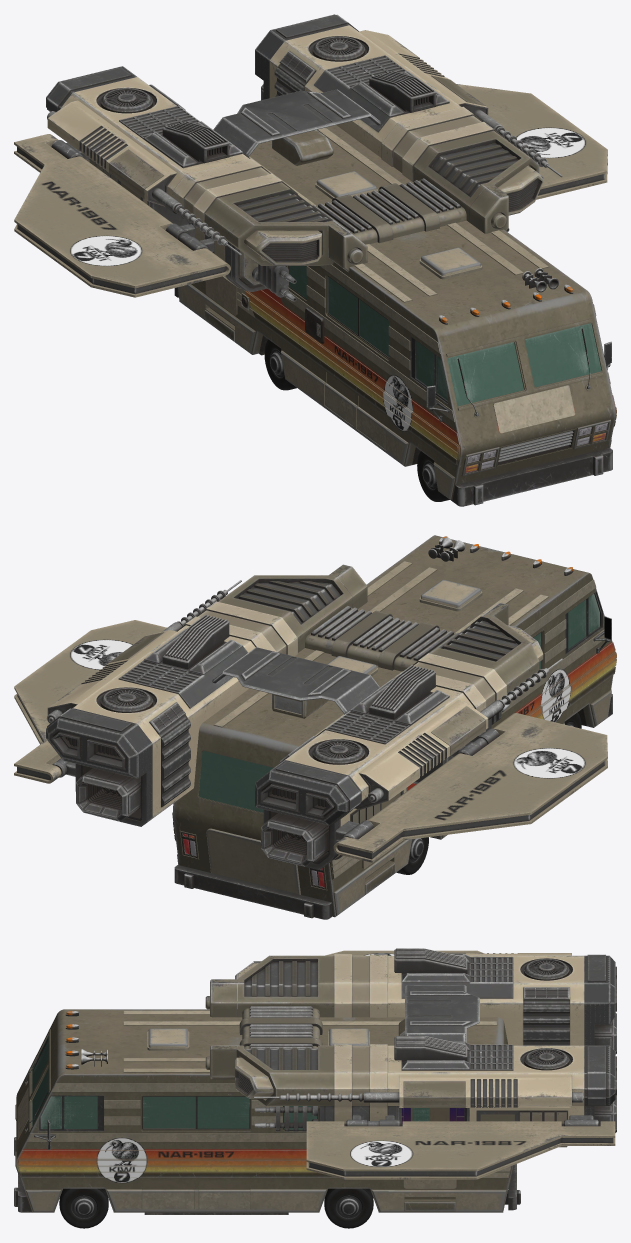
Rendered from clancy_trailer.glb.
The picture shows the model from 3 angles, top to bottom: view 1: azimuth 30°, elevation 25°; view 2: azimuth 150°, elevation 25°; view 3: azimuth 270°, elevation 25°; orthographic projection. The views are drawn at different scales.
Visible parts, largest first — view 1: Object_2, Object_7, Object_8, Object_9, Object_6; view 2: Object_7, Object_2, Object_8, Object_9, Object_6; view 3: Object_7, Object_2, Object_8, Object_9, Object_6, Object_5.
Part boxes in pixels (left/top/right/bottom): Object_2: left=174, top=125, right=616, bottom=506; Object_7: left=46, top=14, right=543, bottom=291; Object_8: left=14, top=84, right=607, bottom=301; Object_9: left=241, top=129, right=611, bottom=421; Object_6: left=264, top=339, right=449, bottom=501; Object_7: left=46, top=564, right=543, bottom=869; Object_2: left=172, top=535, right=616, bottom=919; Object_8: left=14, top=580, right=607, bottom=862; Object_9: left=198, top=536, right=611, bottom=812; Object_6: left=396, top=712, right=581, bottom=874; Object_7: left=205, top=948, right=616, bottom=1147; Object_2: left=14, top=1009, right=520, bottom=1212; Object_8: left=253, top=950, right=615, bottom=1179; Object_9: left=24, top=1011, right=429, bottom=1149; Object_6: left=59, top=1188, right=373, bottom=1228; Object_5: left=105, top=1189, right=288, bottom=1214.
Size of the model in its own units: 4.95 by 2.15 by 5.76.
Materials: 8 (7 with a texture image).
